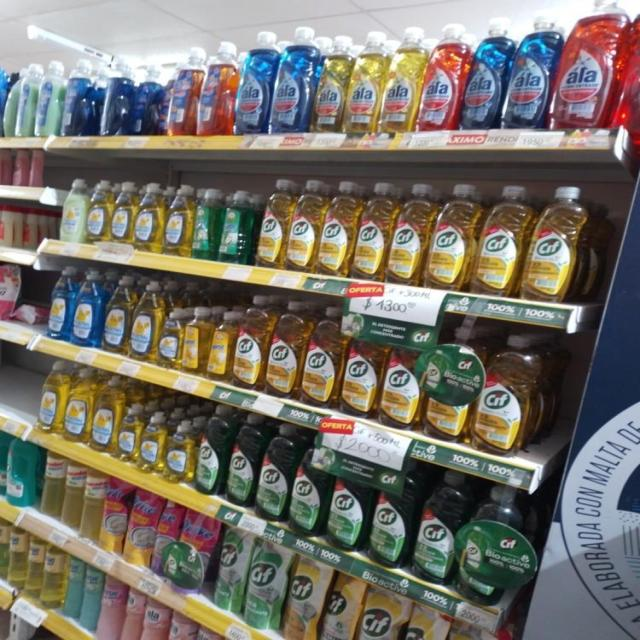ala_conc_amarillo: (382, 27, 422, 134), (348, 31, 382, 135), (315, 32, 347, 134)
ala_conc_azul: (506, 11, 554, 130), (464, 16, 506, 131), (273, 28, 314, 134), (237, 30, 272, 134)
ala_conc_rojo: (556, 0, 622, 130), (421, 22, 464, 132), (625, 0, 640, 135)
ala_crem_rosado: (98, 576, 122, 640), (121, 589, 141, 640), (140, 601, 164, 640), (163, 612, 188, 640)
cif_conc_bot_amarilla: (476, 332, 543, 454), (526, 184, 592, 302), (476, 185, 524, 297), (429, 182, 474, 292), (303, 306, 341, 409), (390, 182, 427, 286), (320, 180, 355, 278), (268, 300, 302, 400), (381, 343, 420, 430), (356, 181, 389, 282), (234, 298, 267, 391), (342, 338, 378, 418), (289, 179, 319, 273), (258, 180, 288, 270)
cif_conc_botella_verde: (414, 470, 456, 585), (371, 472, 412, 569), (292, 436, 326, 537), (259, 422, 291, 522), (329, 477, 368, 552), (228, 412, 258, 508), (197, 405, 228, 497)
cif_conc_sachet_amarillo: (286, 557, 321, 640), (322, 573, 356, 640), (357, 588, 397, 640), (399, 604, 430, 640), (439, 620, 477, 640), (419, 615, 445, 640)
cif_conc_sachet_verde: (247, 541, 285, 631)
magistral_con_amarillo: (132, 280, 160, 364), (103, 274, 131, 356), (165, 184, 193, 258), (65, 366, 91, 444), (136, 182, 164, 253), (166, 418, 194, 484), (158, 309, 182, 371), (112, 180, 134, 247), (87, 180, 110, 244)
